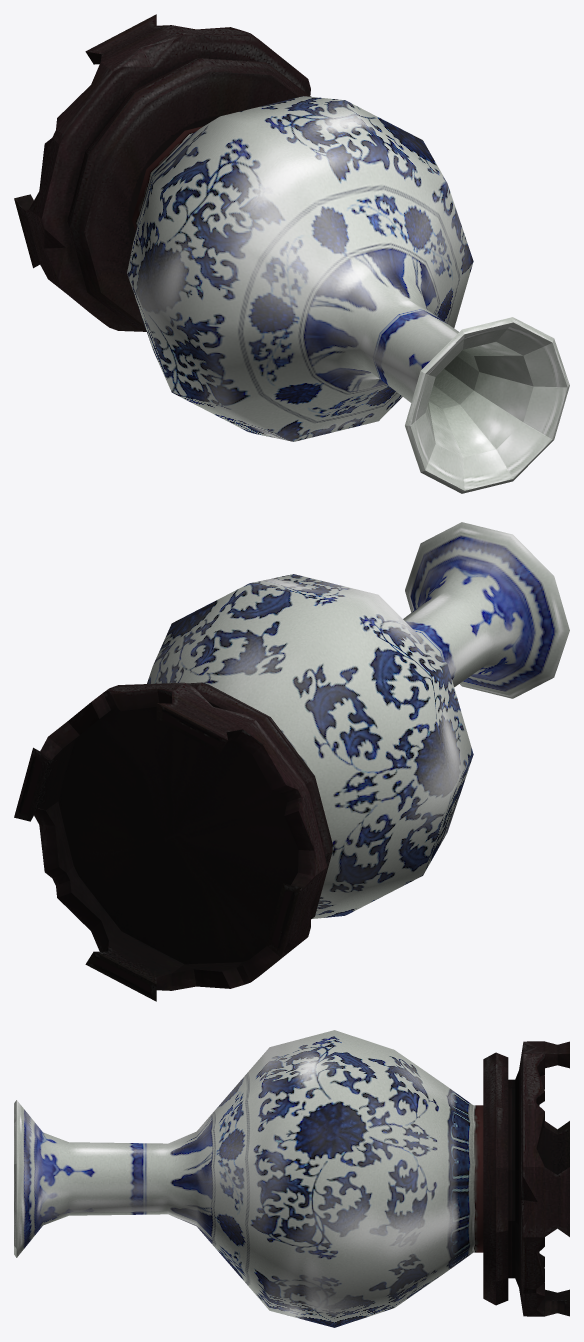
Rendered from HSM0037.obj.
The picture shows the model from 3 angles, top to bottom: view 1: azimuth 30°, elevation 25°; view 2: azimuth 150°, elevation 25°; view 3: azimuth 270°, elevation 25°; orthographic projection. The views are drawn at different scales.
Visible parts, largest first — view 1: Vase_Low, Base_Low; view 2: Vase_Low, Base_Low; view 3: Vase_Low, Base_Low.
Boxes of the visible parts, x1,y1,x2,y2 form: Vase_Low: (127, 96, 569, 493); Base_Low: (14, 14, 311, 331); Vase_Low: (147, 522, 569, 918); Base_Low: (14, 682, 332, 1001); Vase_Low: (14, 1030, 483, 1327); Base_Low: (483, 1041, 569, 1316).
Bounding box in the file's own units: 19.92 × 18.94 × 36.9.
Materials: 1 (1 with a texture image).
